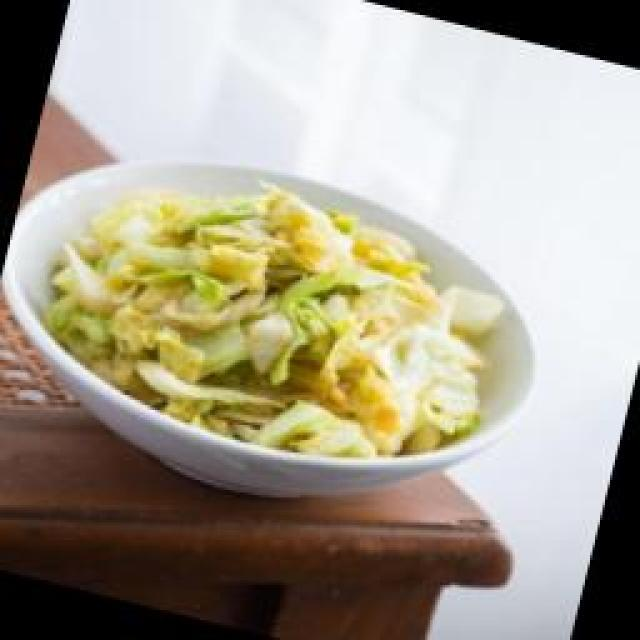chinese_cabbage: (40, 150, 508, 483)
